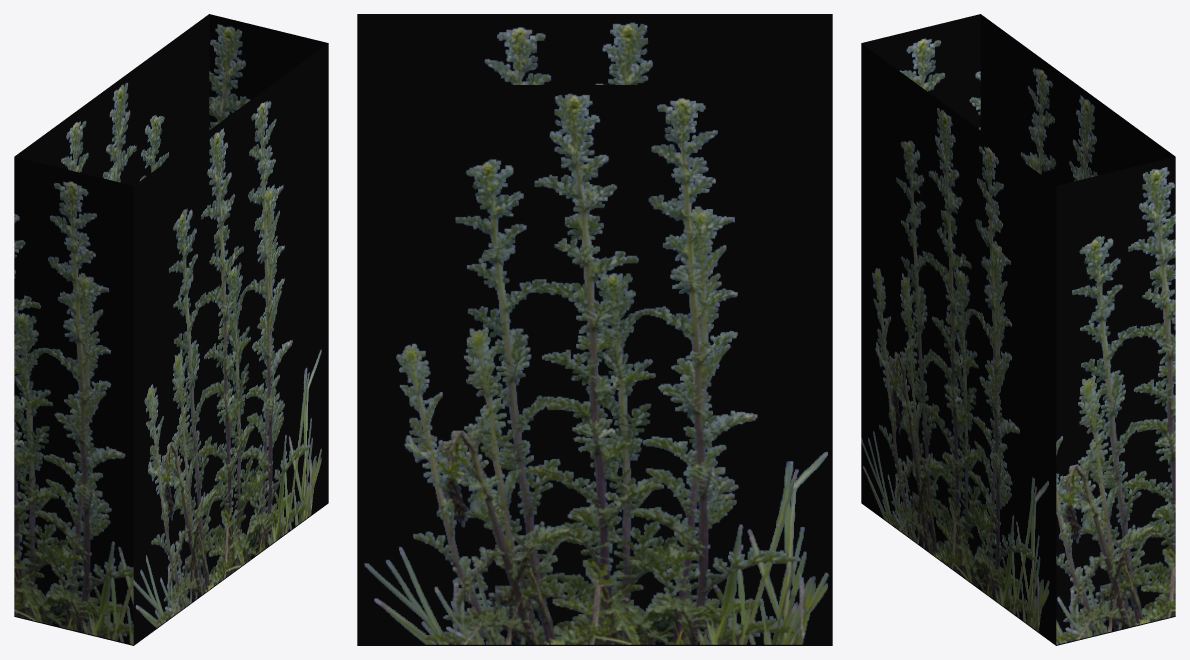
File: 9c85b4d8-443d-472d-8447-cf891ceca066.dae
3 renders of one model, left to right at view 1: azimuth 30°, elevation 25°; view 2: azimuth 150°, elevation 25°; view 3: azimuth 270°, elevation 25°, orthographic. The views are drawn at different scales.
Parts seen in each view (by area): view 1: SketchUp; view 2: SketchUp; view 3: SketchUp.
Boxes of the visible parts, left/top/right/bottom form: SketchUp: left=14, top=14, right=328, bottom=645; SketchUp: left=357, top=14, right=832, bottom=645; SketchUp: left=861, top=14, right=1175, bottom=645.
Size of the model in its own units: 22.05 by 17.05 by 27.53.
1 material, 1 textured.
